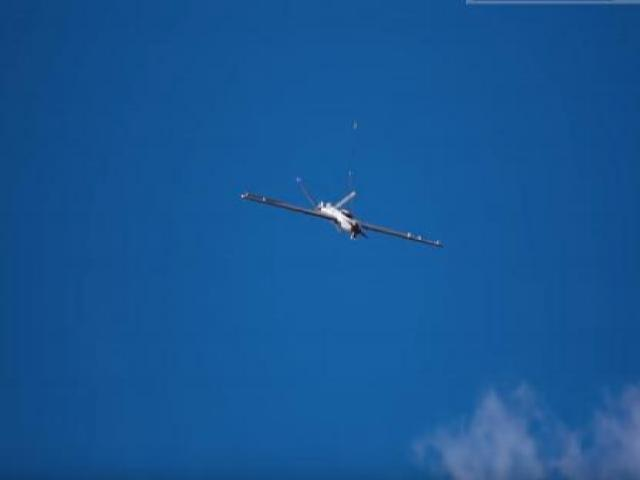uav: (239, 175, 444, 250)
